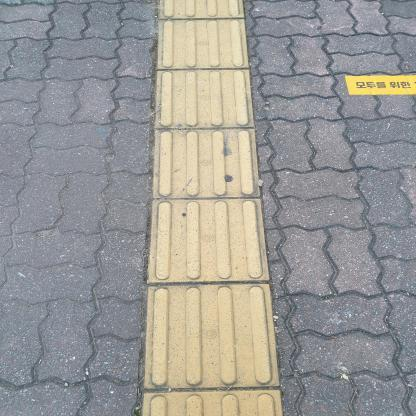podotacti: (132, 0, 295, 415)
